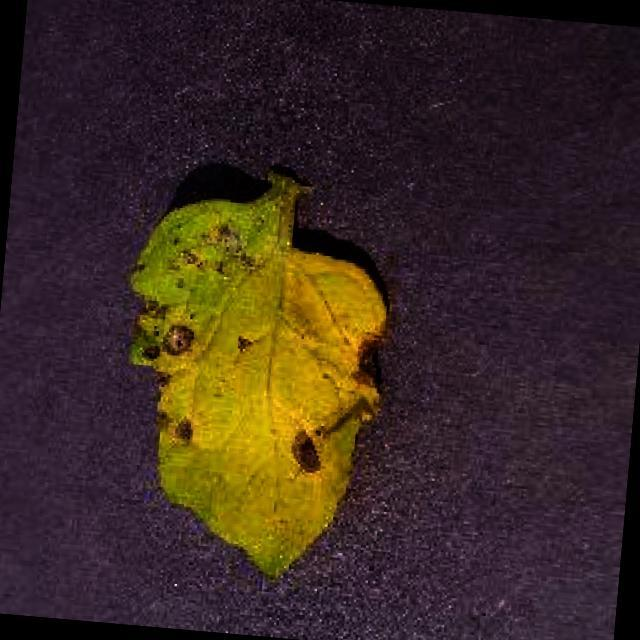Tomato Septoria spot leaf: (106, 185, 396, 590)
